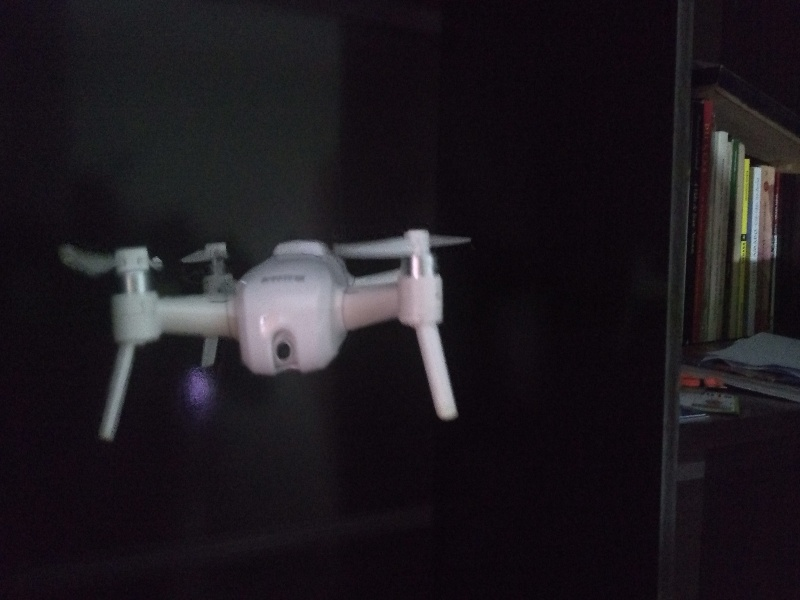drone: (48, 199, 474, 436)
